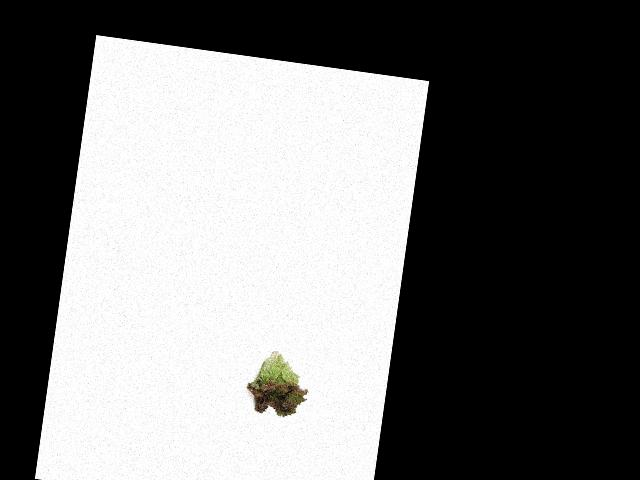lettuce: (236, 345, 315, 428)
